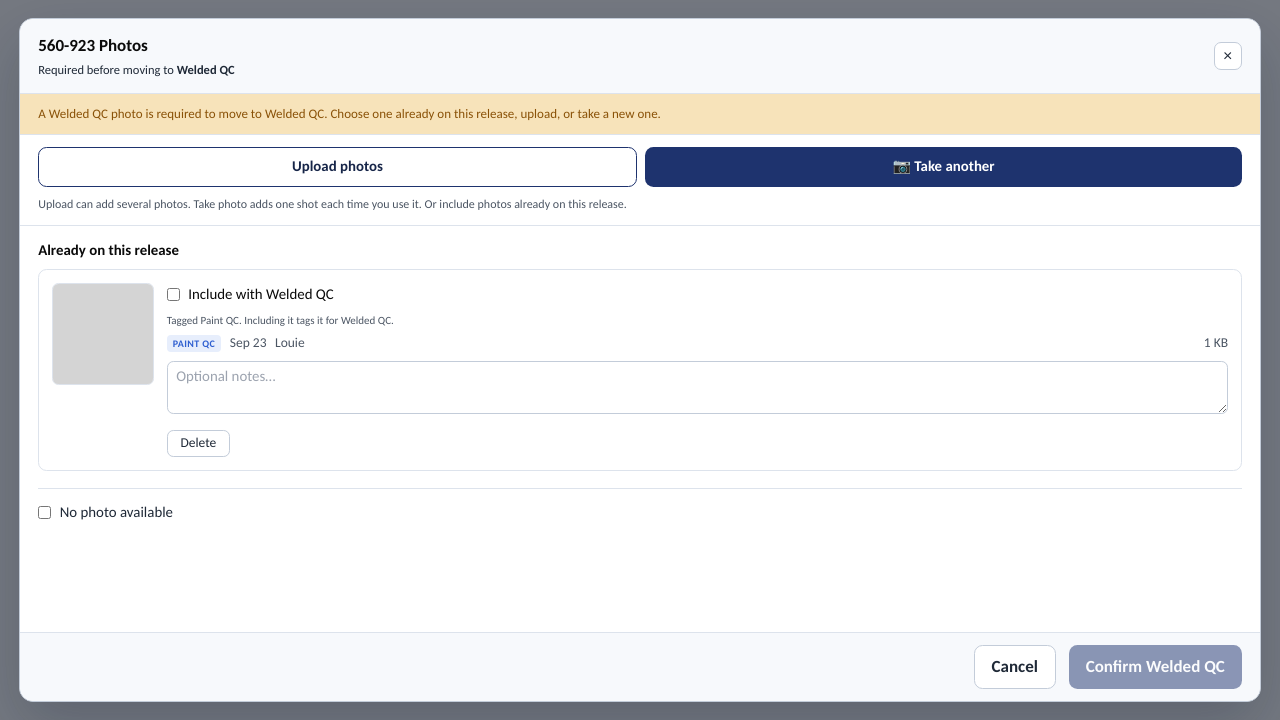
Scenario: unlocking Confirm › does not move the stage when retagging fails
Click the checkbox labelled "Include with Welded QC": (173, 294) [167,288,180,301]
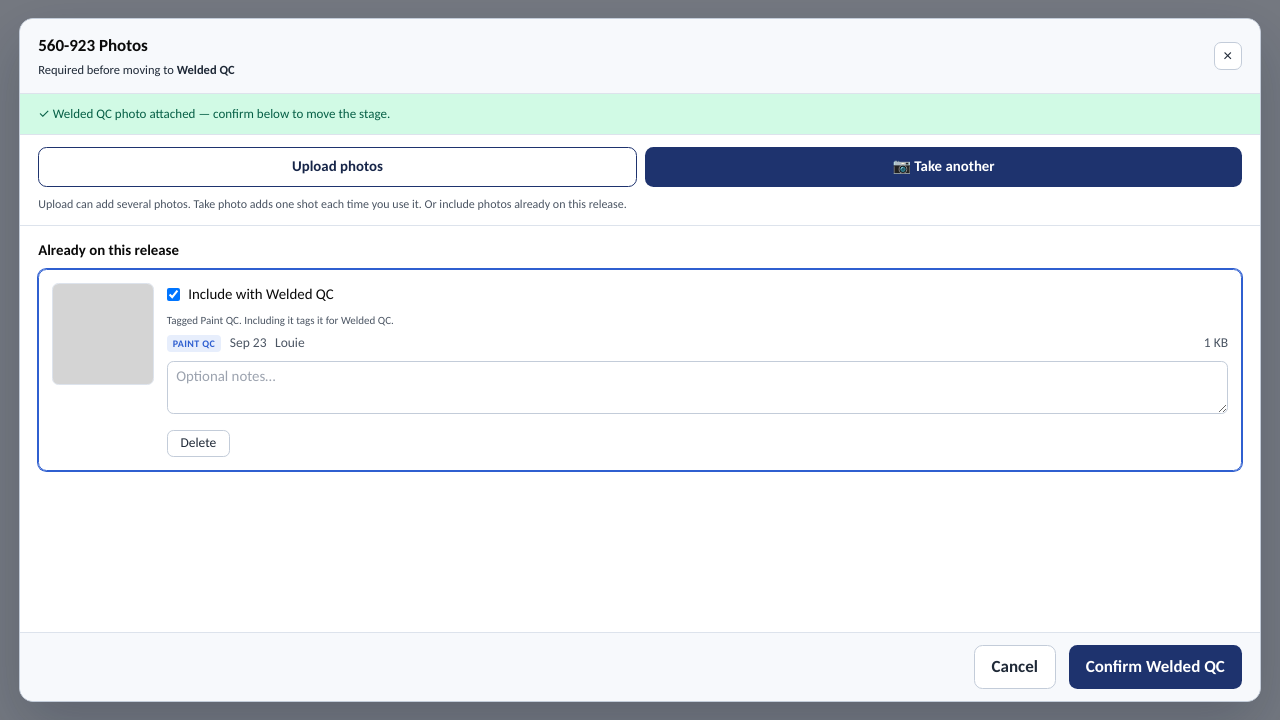
Click the button "Confirm Welded QC": (1155, 667) [1069,644,1242,689]
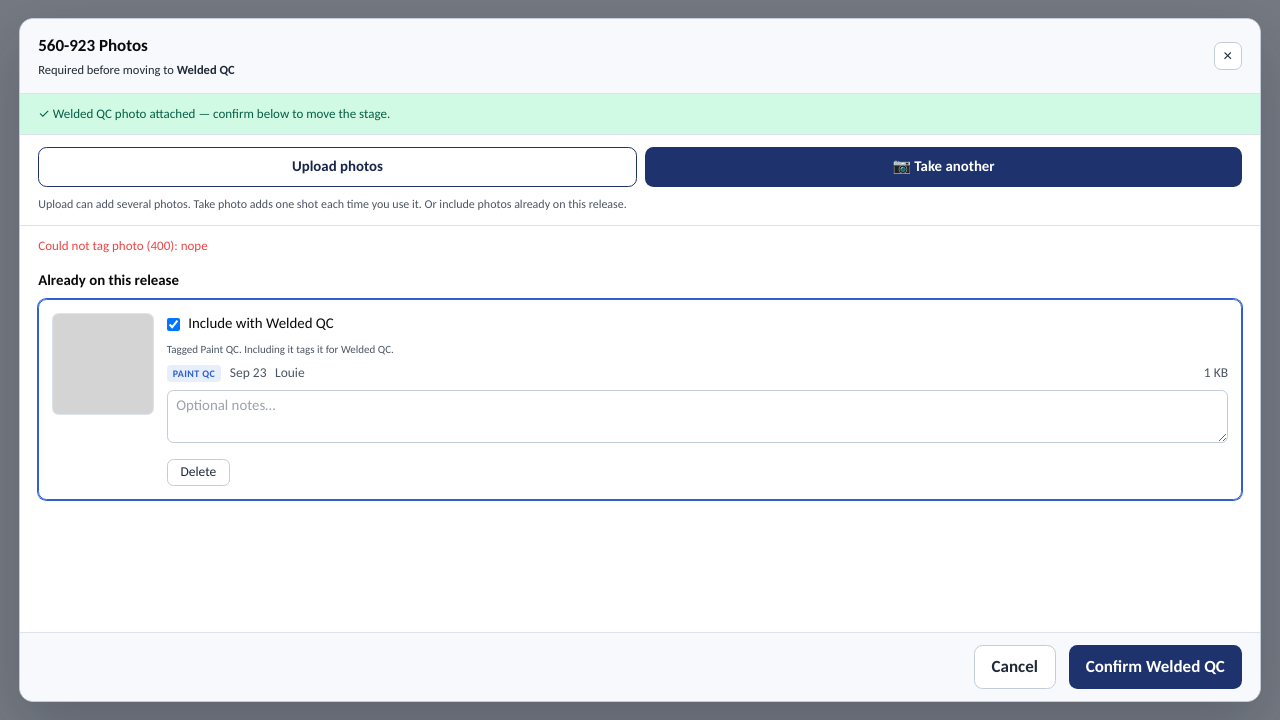
Expected: the text "Could not tag photo (400): nope" is shown, [38,238,208,253]
